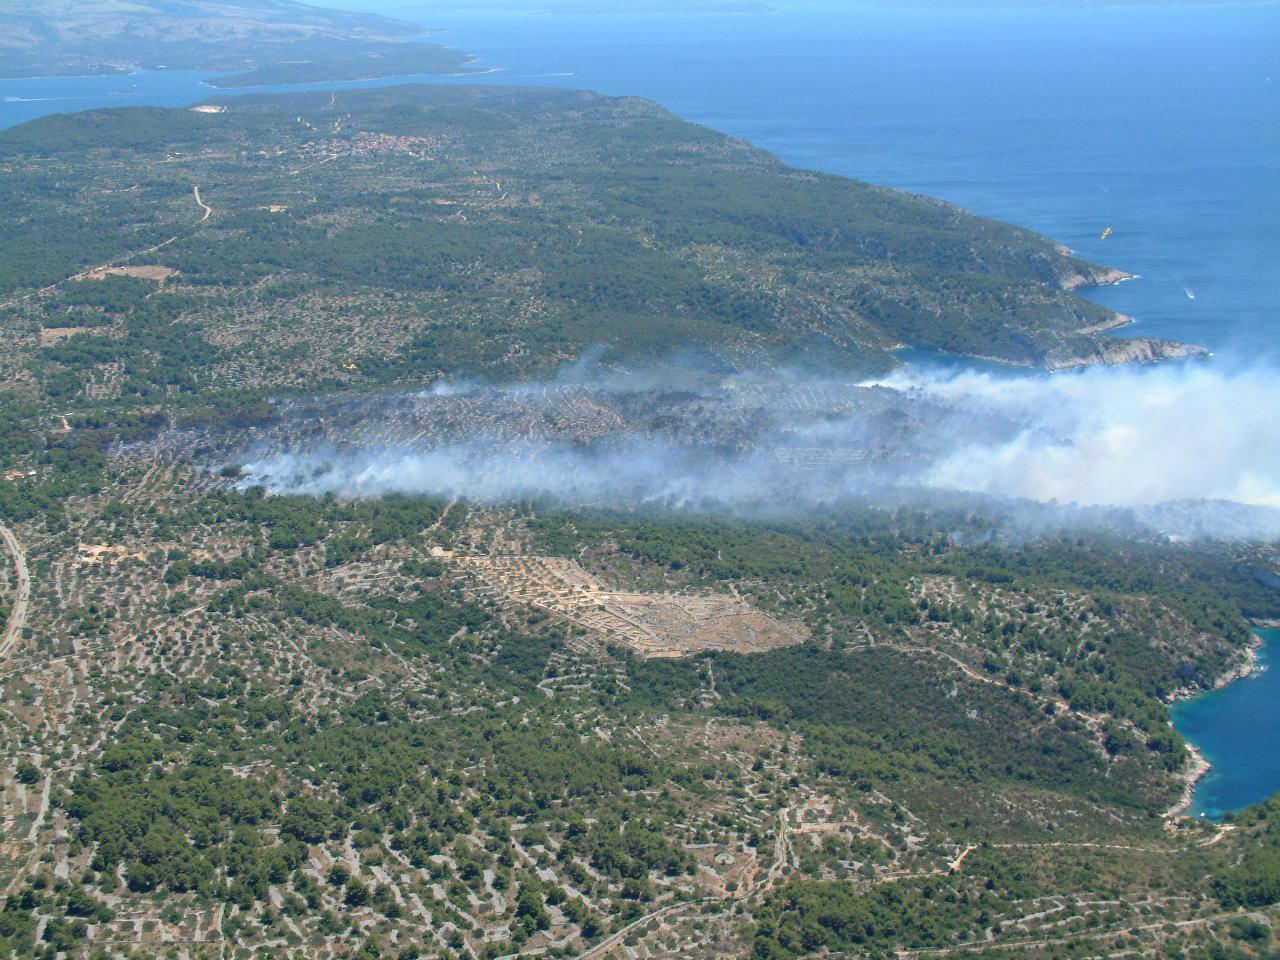Smoke: (233, 444, 1280, 508), (851, 362, 1280, 433)
